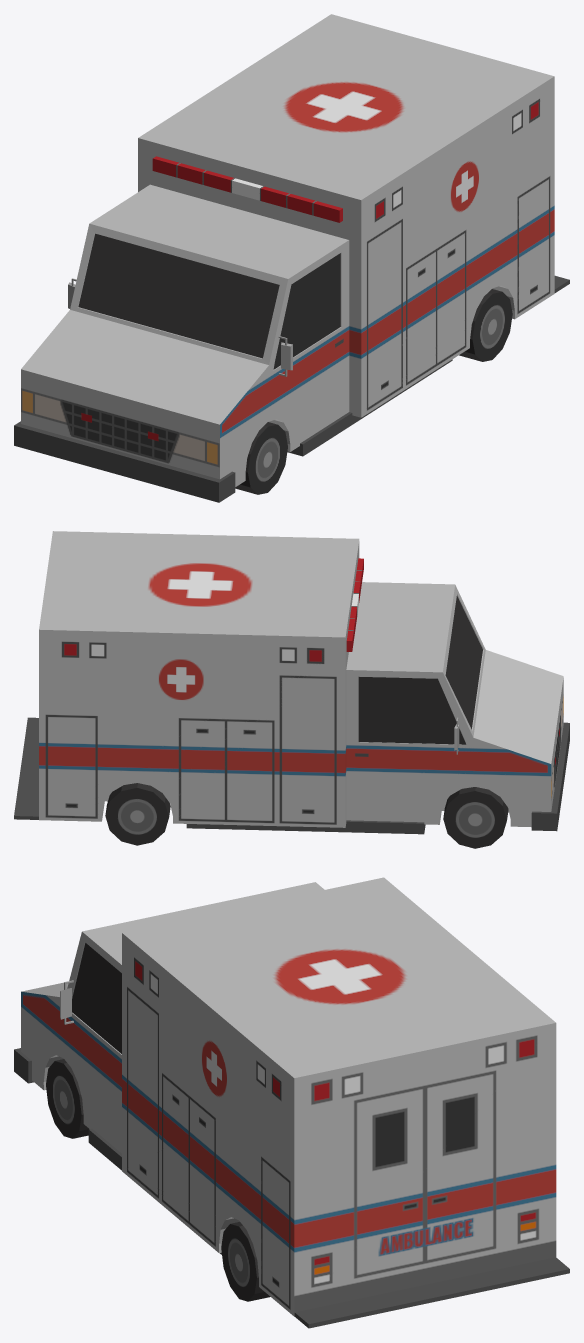
Rendered from Car1_ambulance.glb.
The picture shows the model from 3 angles, top to bottom: view 1: azimuth 30°, elevation 25°; view 2: azimuth 150°, elevation 25°; view 3: azimuth 270°, elevation 25°; orthographic projection. The views are drawn at different scales.
Parts seen in each view (by area): view 1: Vehicle_Ambulance.002; view 2: Vehicle_Ambulance.002; view 3: Vehicle_Ambulance.002.
Boxes of the visible parts, x1,y1,x2,y2 form: Vehicle_Ambulance.002: (14,14,569,502); Vehicle_Ambulance.002: (14,531,569,848); Vehicle_Ambulance.002: (14,877,569,1328).
Size of the model in its own units: 1.84 by 0.7374 by 1.39.
1 material, 1 textured.
